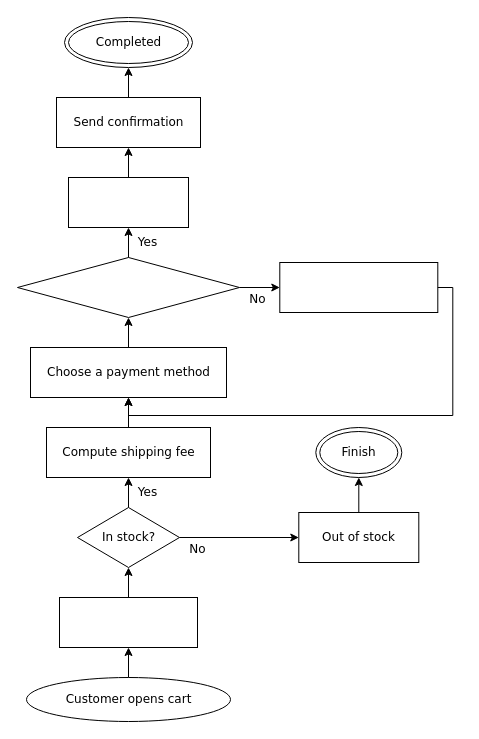
Some shapes in this 479 by 739 pixel diagram are drawn without their labels. The shapes that lost their labels are listed below. From the top down, each one's centre as x and y in pixels, then its label:
At [128,202]: "Create order".
At [128,287]: "Payment succeeded?".
At [358,287]: "Show payment error".
At [128,622]: "Check stock level".
